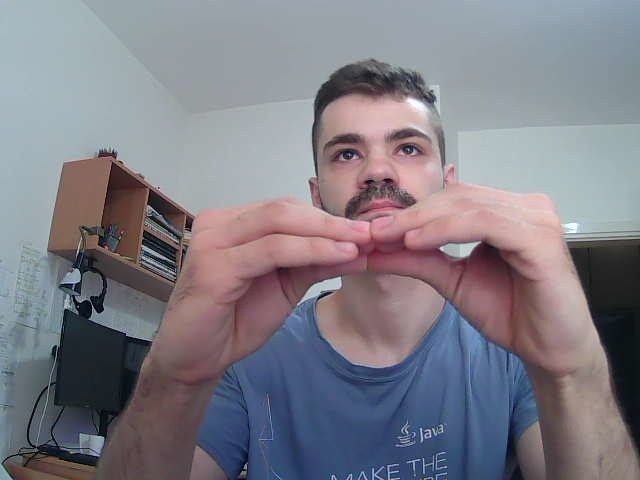b: (142, 170, 619, 370)
